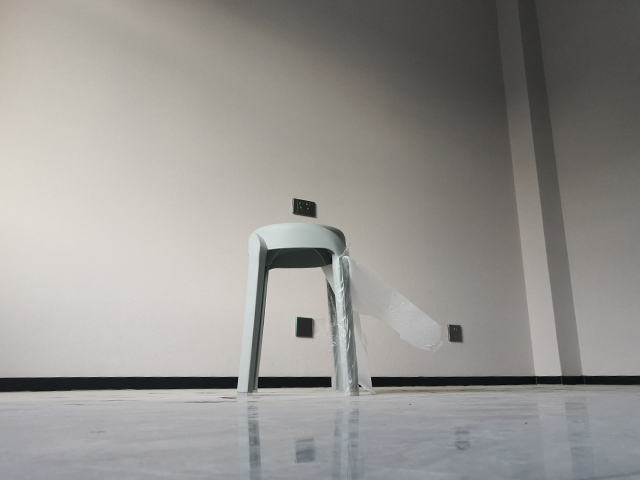stool: (234, 221, 361, 397)
